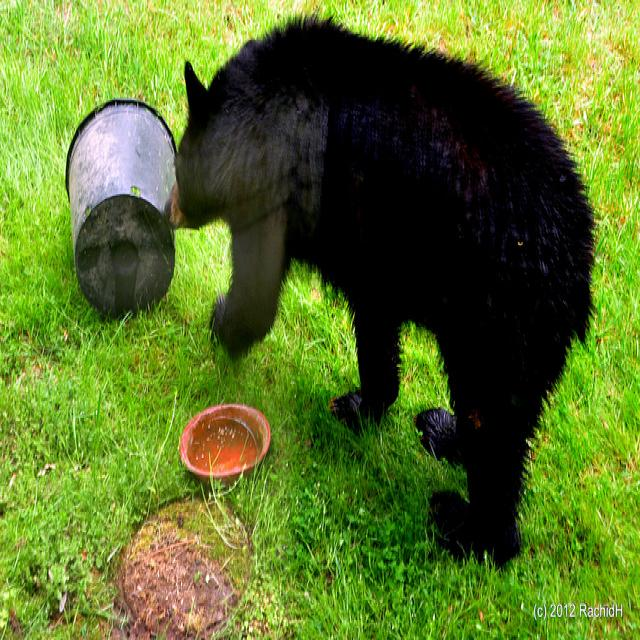Bear: (169, 12, 594, 576)
